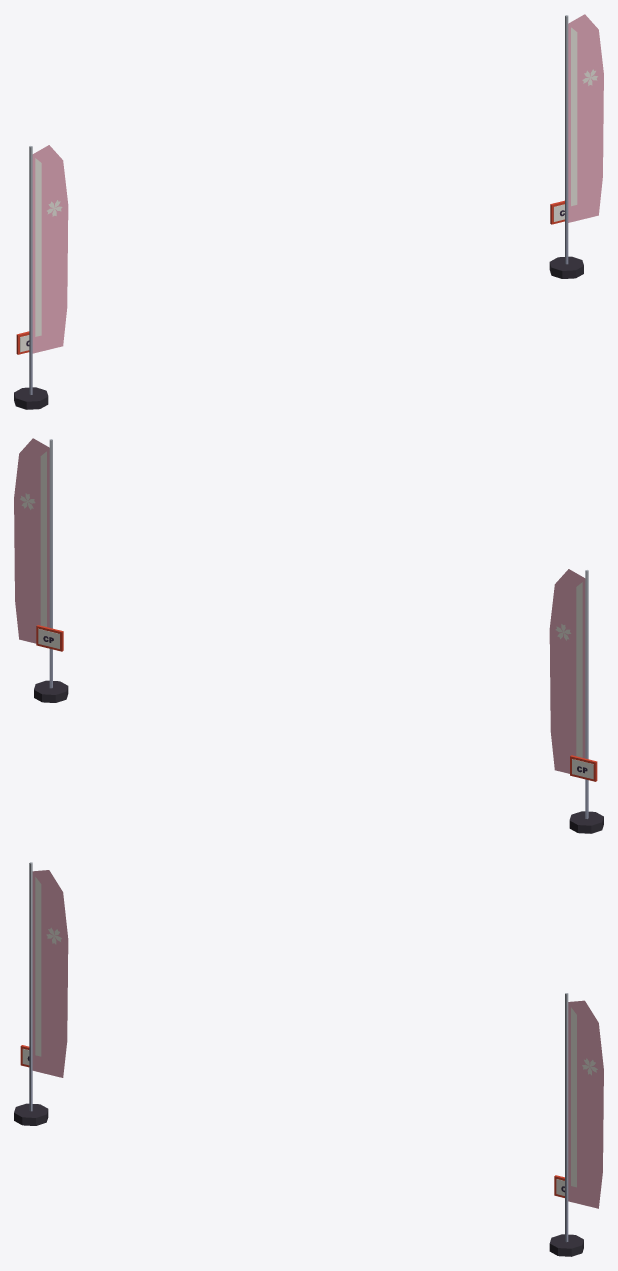
The model's file is checkpoint_gate.glb.
3 views of the same model, one above another, from view 1: azimuth 30°, elevation 25°; view 2: azimuth 150°, elevation 25°; view 3: azimuth 330°, elevation 25° (orthographic).
Parts seen in each view (by area): view 1: checkpoint_gate; view 2: checkpoint_gate; view 3: checkpoint_gate.
Boxes of the visible parts, x1,y1,x2,y2 form: checkpoint_gate: (14,14,603,409); checkpoint_gate: (14,438,603,833); checkpoint_gate: (14,862,603,1256).
Bounding box in the file's own units: 11.42 × 4.75 × 0.6.
